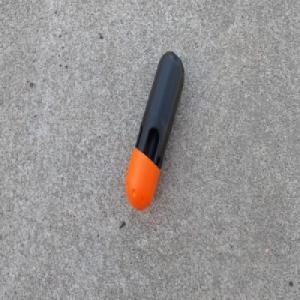PlasticPart: (124, 49, 184, 211)
